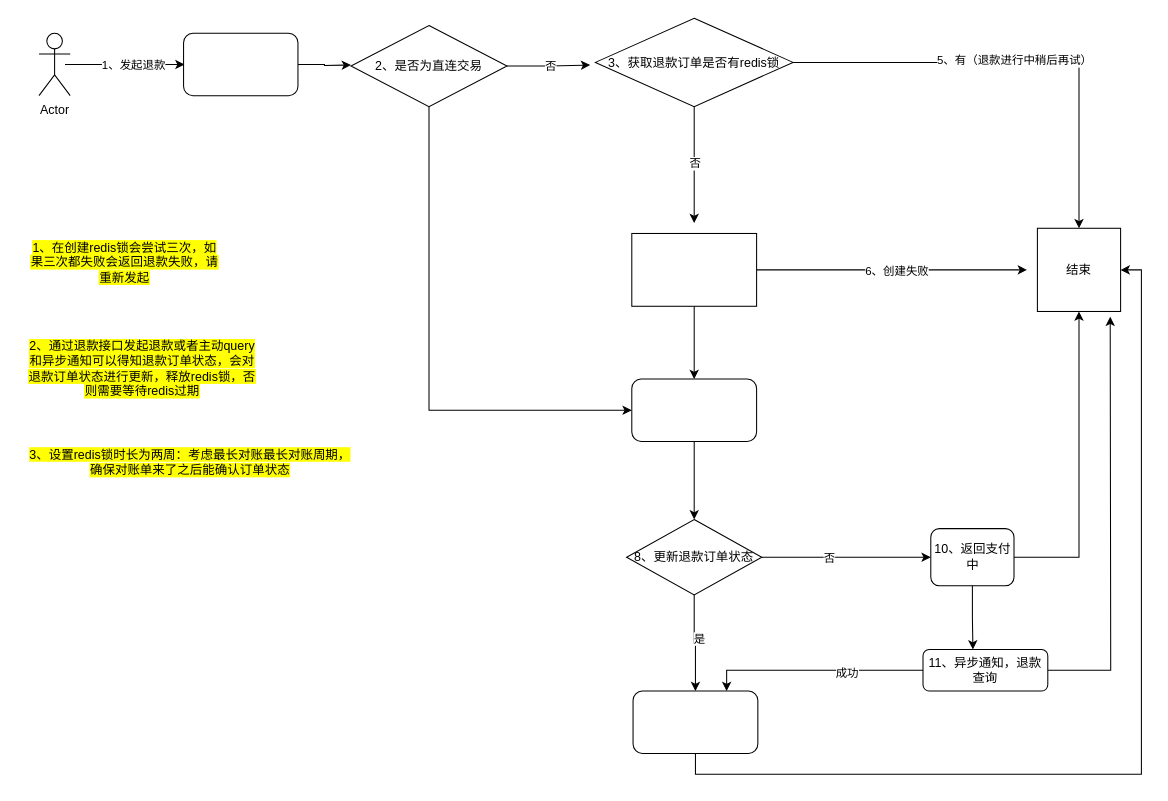
This 1168x801 diagram has some shape labels left out. Each missing label, with the centre of its shape:
"4、尝试三次创建redis锁，并设置过期时间为两周" belongs at point (694, 269).
"7、调用支付通道服务（weixin/alipay/fps等）" belongs at point (694, 409).
"9、释放redis锁" belongs at point (695, 721).
"paycore服务" belongs at point (240, 64).
